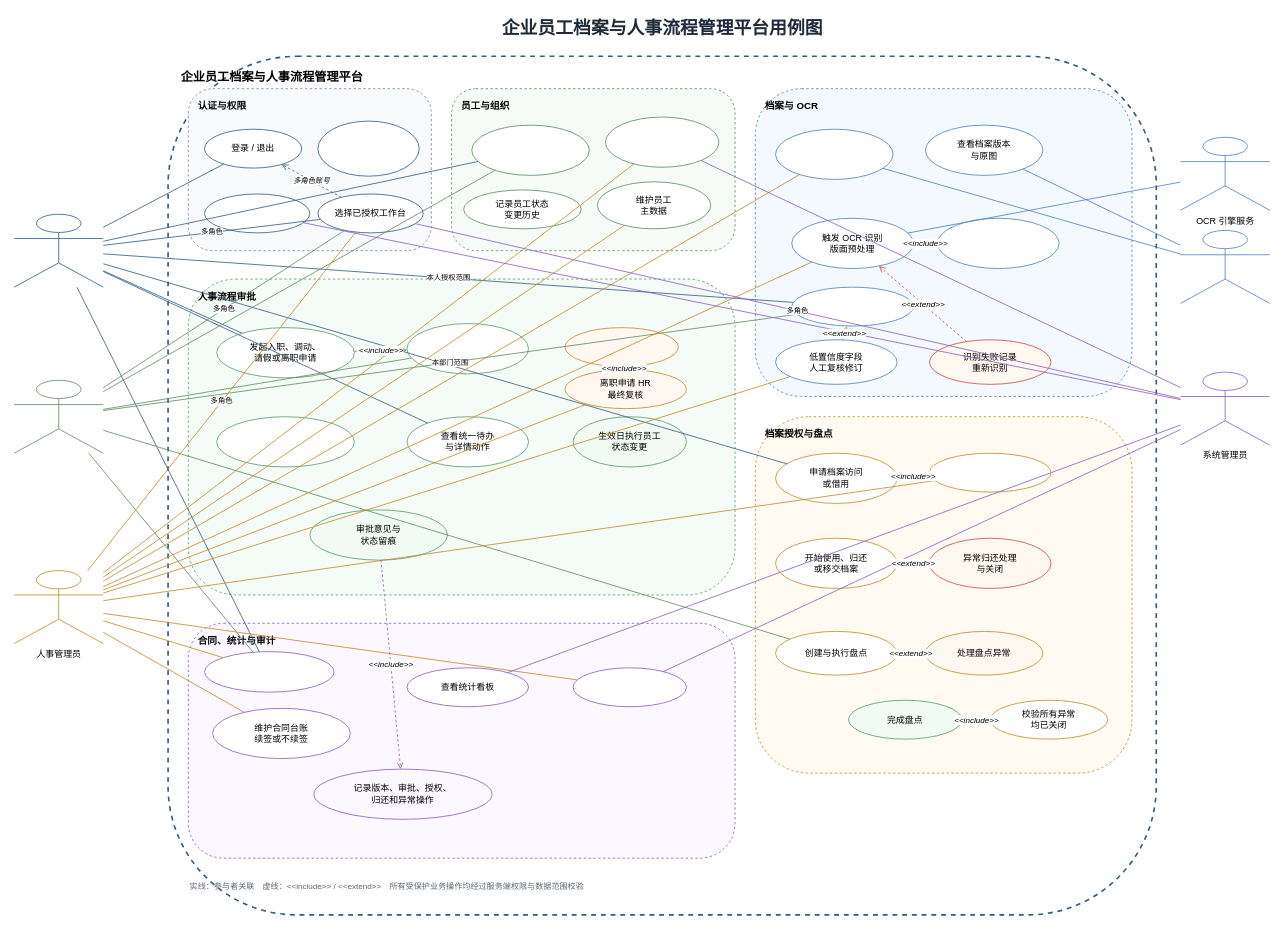
Image size: 1284x929. Some labels were removed from this diagram. Here are the shapes that lost their labels. From the top down, the centre of each, then its label:
At pixel 368 148: "身份认证与 数据范围校验".
At pixel 530 149: "查看员工目录 与本人信息".
At pixel 662 141: "维护部门与 岗位结构".
At pixel 834 153: "上传档案材料 建立版本".
At pixel 257 213: "管理账号与角色".
At pixel 58 250: "员工 / 业务经办人".
At pixel 998 243: "字段映射与 格式校验".
At pixel 1225 266: "MinIO 对象存储".
At pixel 852 306: "查看 OCR 结果".
At pixel 467 348: "人事申请审批 部门审批与 HR 复核".
At pixel 621 347: "确认离职交接".
At pixel 58 416: "部门负责人".
At pixel 285 441: "查看申请详情 与审批时间线".
At pixel 990 472: "档案授权审批".
At pixel 269 671: "查看范围内合同".
At pixel 629 687: "查看操作日志".
